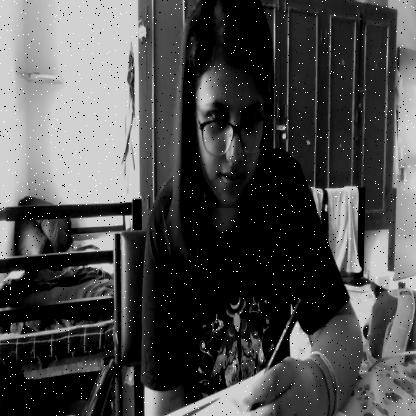Normal: (186, 0, 273, 208)
